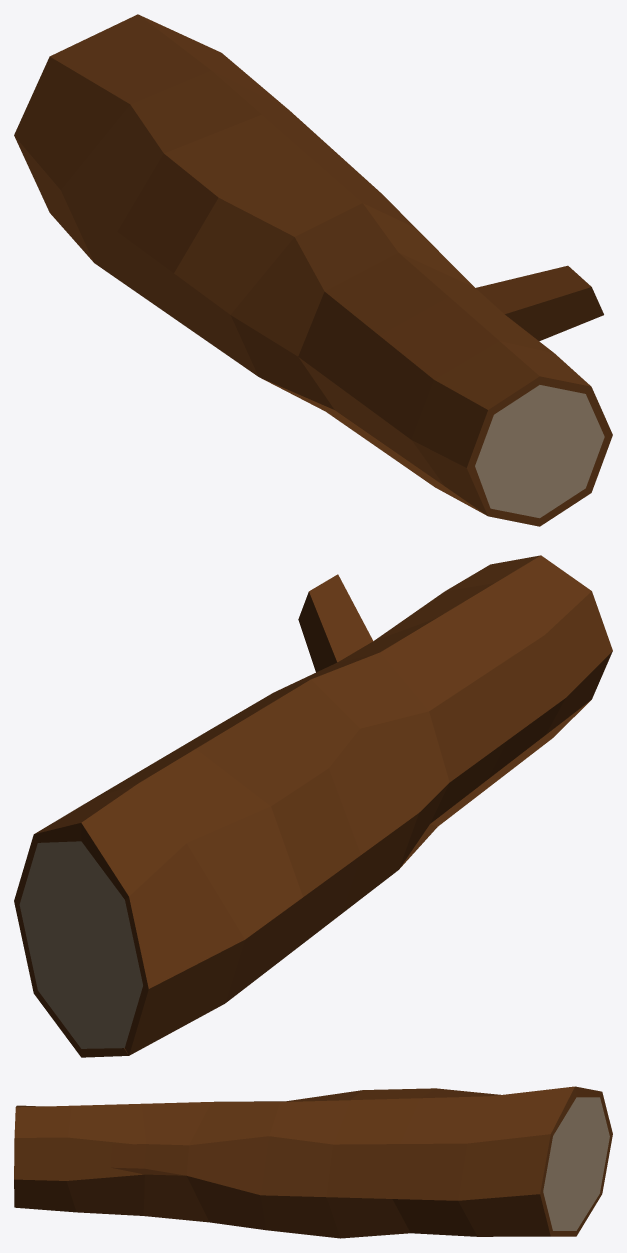
File: Log.fbx
3 renders of one model, top to bottom at view 1: azimuth 30°, elevation 25°; view 2: azimuth 150°, elevation 25°; view 3: azimuth 270°, elevation 25°, orthographic. The views are drawn at different scales.
Parts seen in each view (by area): view 1: Cylinder; view 2: Cylinder; view 3: Cylinder.
Boxes of the visible parts, left/top/right/bottom form: Cylinder: left=14, top=14, right=612, bottom=526; Cylinder: left=14, top=555, right=612, bottom=1057; Cylinder: left=14, top=1086, right=612, bottom=1238.
Size of the model in its own units: 113 by 106 by 381.
